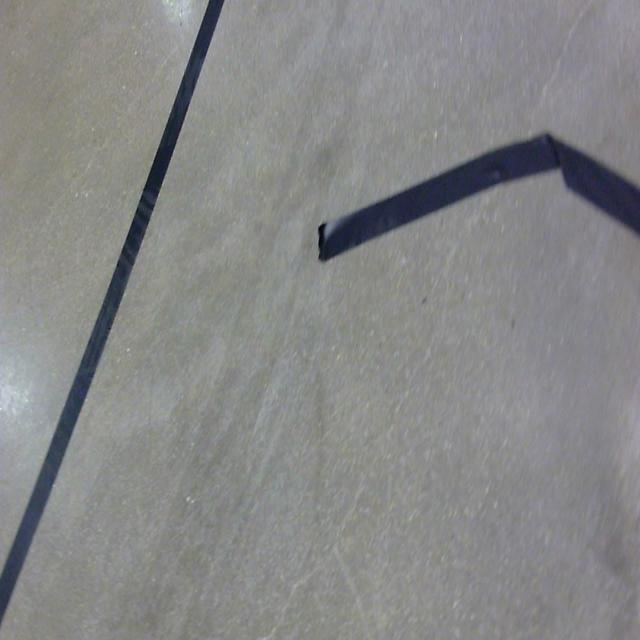tape: (304, 107, 640, 300)
